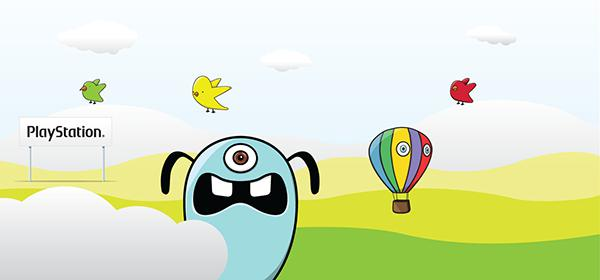bird: (189, 69, 235, 115), (443, 73, 487, 114), (76, 74, 111, 108)
